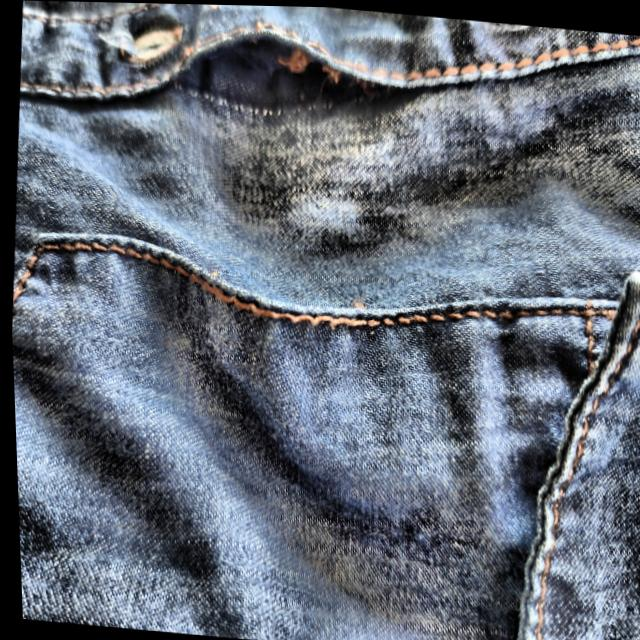seam: (147, 3, 396, 145)
